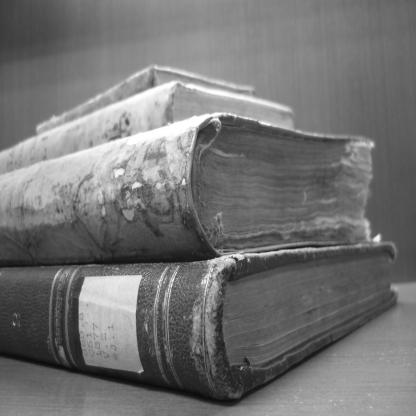book: (0, 256, 397, 404), (0, 110, 379, 258), (0, 80, 297, 176), (34, 63, 255, 133)
